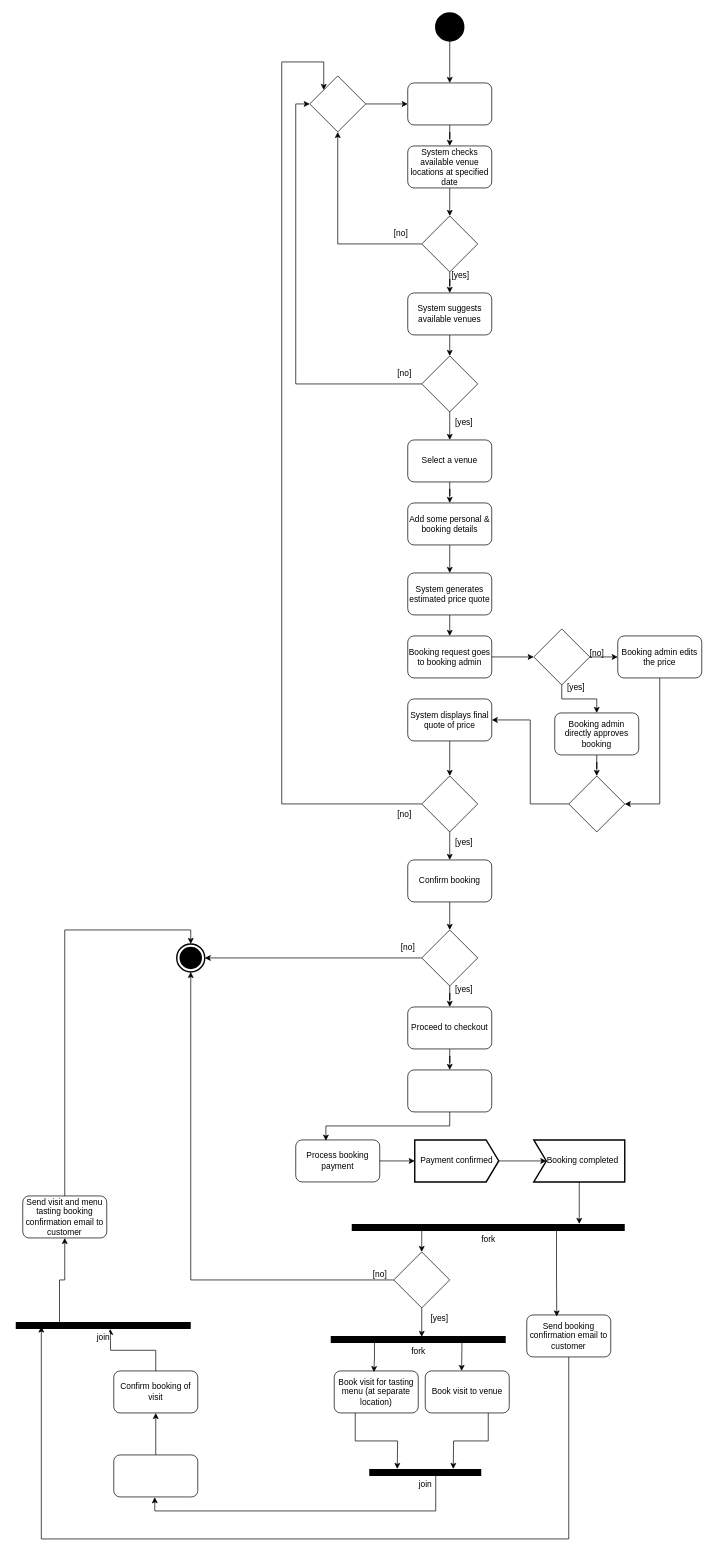
Image size: 714x1557. Some labels were removed from this diagram. The shapes that lost their labels are listed below. From the top down, each one's centre as x and y in pixels, then its label:
At (449,103): "Enter date & time of your event".
At (449,243): "Venue available?".
At (449,383): "Happy with available venues?".
At (561,656): "if price quote reasonable?".
At (449,803): "happy?".
At (449,957): "Pay now?".
At (449,1090): "Enter bank details".
At (421,1279): "Book visit?".
At (155,1475): "Select date & time".
